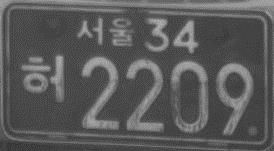0: (168, 59, 209, 134)
2: (123, 57, 166, 134), (79, 55, 120, 131)
3: (142, 16, 169, 53)
4: (171, 18, 199, 54)
9: (214, 61, 256, 139)
서울_O: (75, 16, 135, 49)
허: (19, 53, 67, 103)
